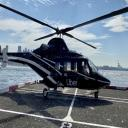helicopter: (1, 5, 128, 99)
